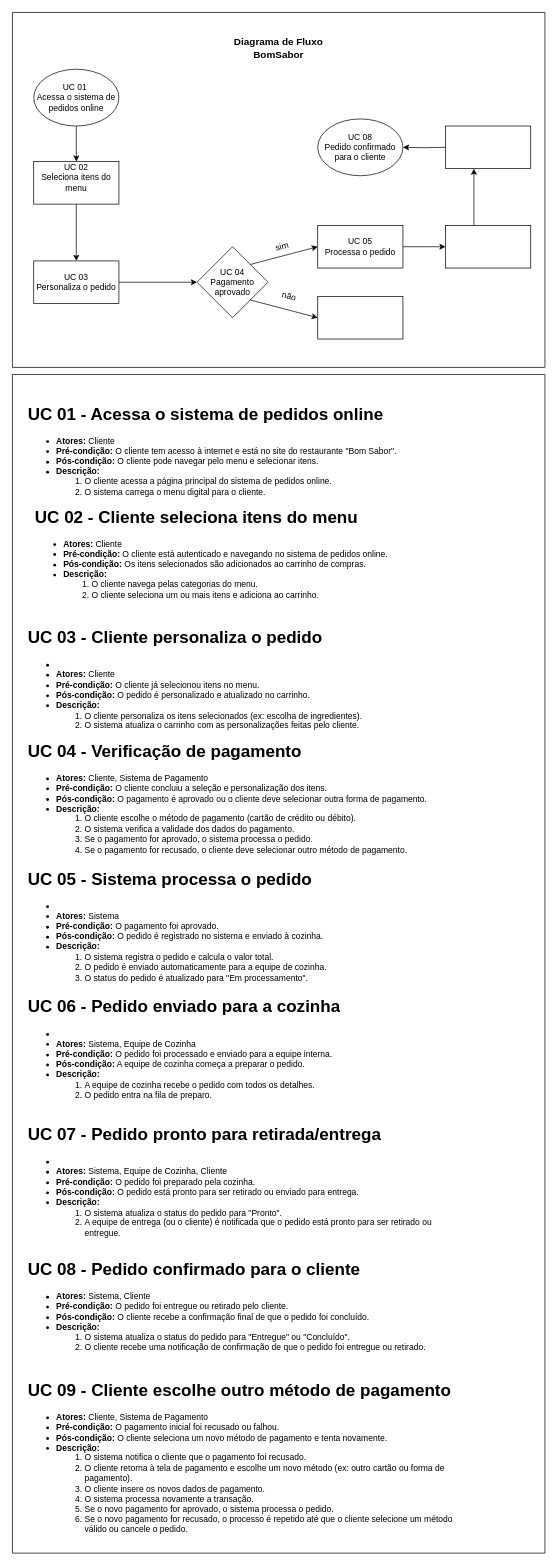
This 557x1566 diagram has some shape labels left out. The box of each missing label's shape, as (x1, y1, x2, y2) in pixels:
UC 06 Pedido enviado para a cozinha: (445, 225, 531, 268)
UC 07 Pedido pronto para retirada/entrega: (445, 125, 531, 169)
UC 09 Escolhe outro método de pagamento: (317, 296, 403, 339)
